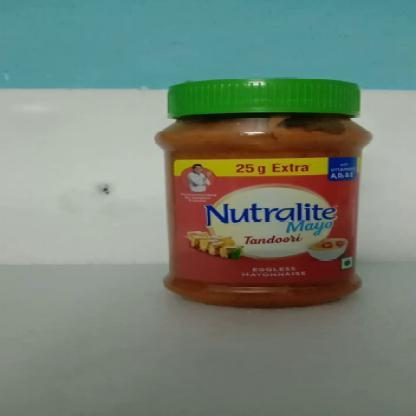Nutralite TANDOORI MAYO 300g-275g-25g-: (154, 78, 378, 310)
